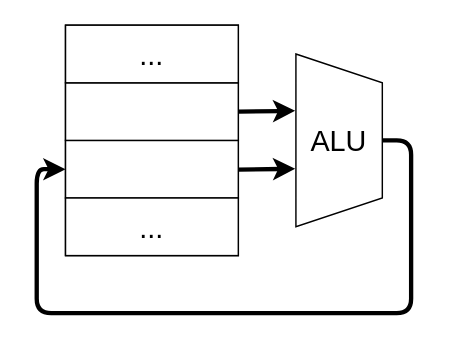
Some shapes in this 449 by 351 pixel diagram are drawn without their labels. The shapes that lost their labels are listed below. From the top down, each one's centre as x and y in pixels, then its label:
the point at 151,110: Operand B
the point at 151,168: Operand A
